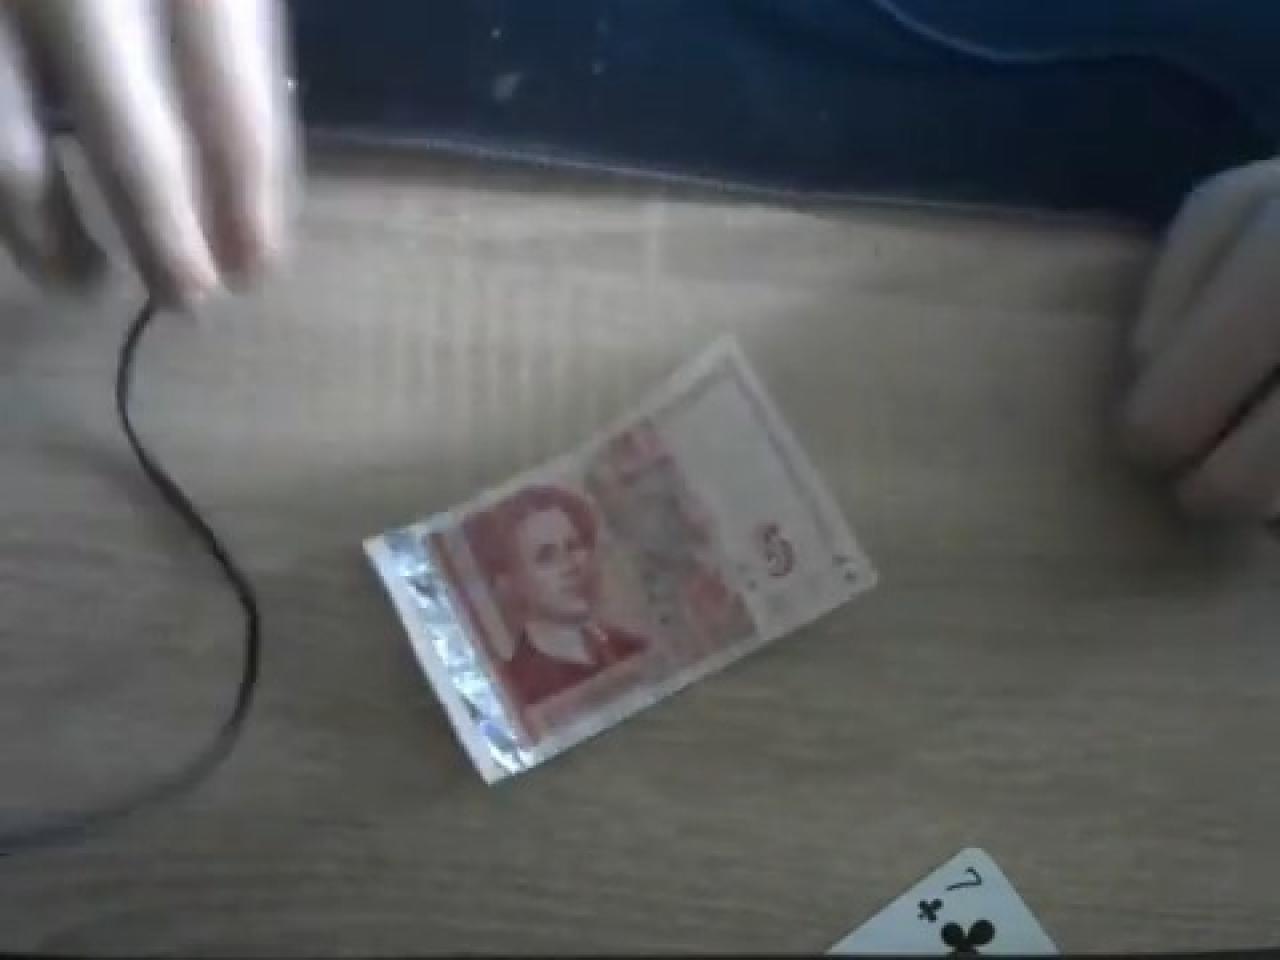5leva: (365, 349, 875, 784)
